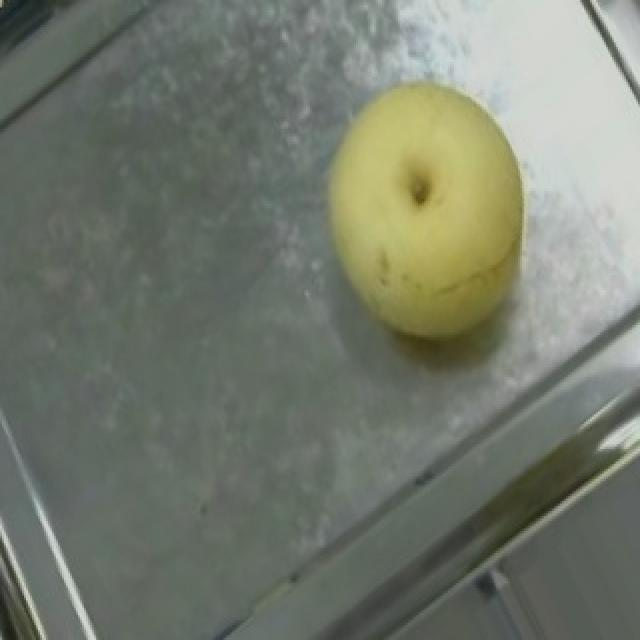Fruit: (278, 44, 586, 380)
